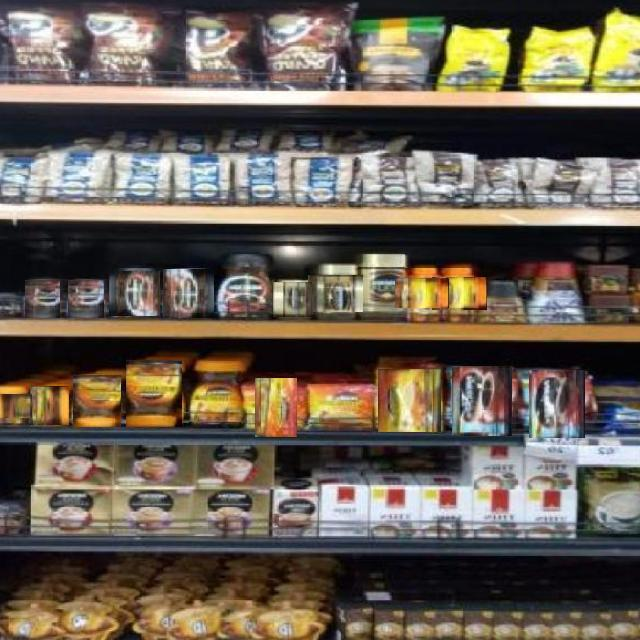Coffee: (453, 365, 512, 436), (378, 368, 441, 432), (530, 369, 585, 438), (126, 360, 182, 427), (190, 360, 241, 427), (218, 255, 270, 319), (358, 255, 405, 319), (310, 385, 373, 429), (162, 269, 214, 318), (73, 374, 121, 427), (255, 378, 297, 437), (110, 270, 160, 316), (307, 275, 363, 312), (431, 277, 487, 310), (395, 279, 449, 308), (30, 387, 69, 425), (68, 279, 104, 318), (25, 279, 60, 318), (274, 282, 312, 317), (0, 393, 32, 418), (0, 292, 21, 318)
